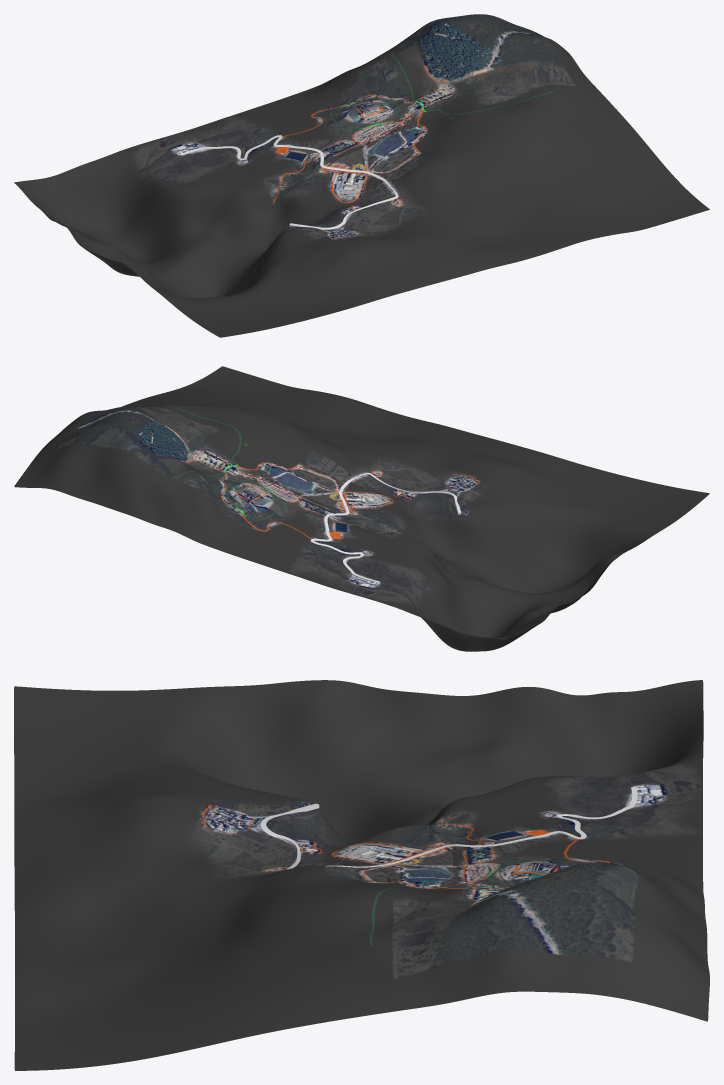
The model's file is PlanMaestro.fbx.
The picture shows the model from 3 angles, top to bottom: view 1: azimuth 30°, elevation 25°; view 2: azimuth 150°, elevation 25°; view 3: azimuth 270°, elevation 25°; orthographic projection. The views are drawn at different scales.
Parts seen in each view (by area): view 1: Plane, Cube; view 2: Plane, Cube; view 3: Plane, Cube.
Boxes of the visible parts, x1,y1,x2,y2 form: Plane: (14,14,709,337); Cube: (180,135,398,229); Plane: (14,366,709,651); Cube: (310,473,461,582); Plane: (14,680,709,1070); Cube: (260,786,637,869).
Bounding box in the file's own units: 49951 × 14092 × 36295.
